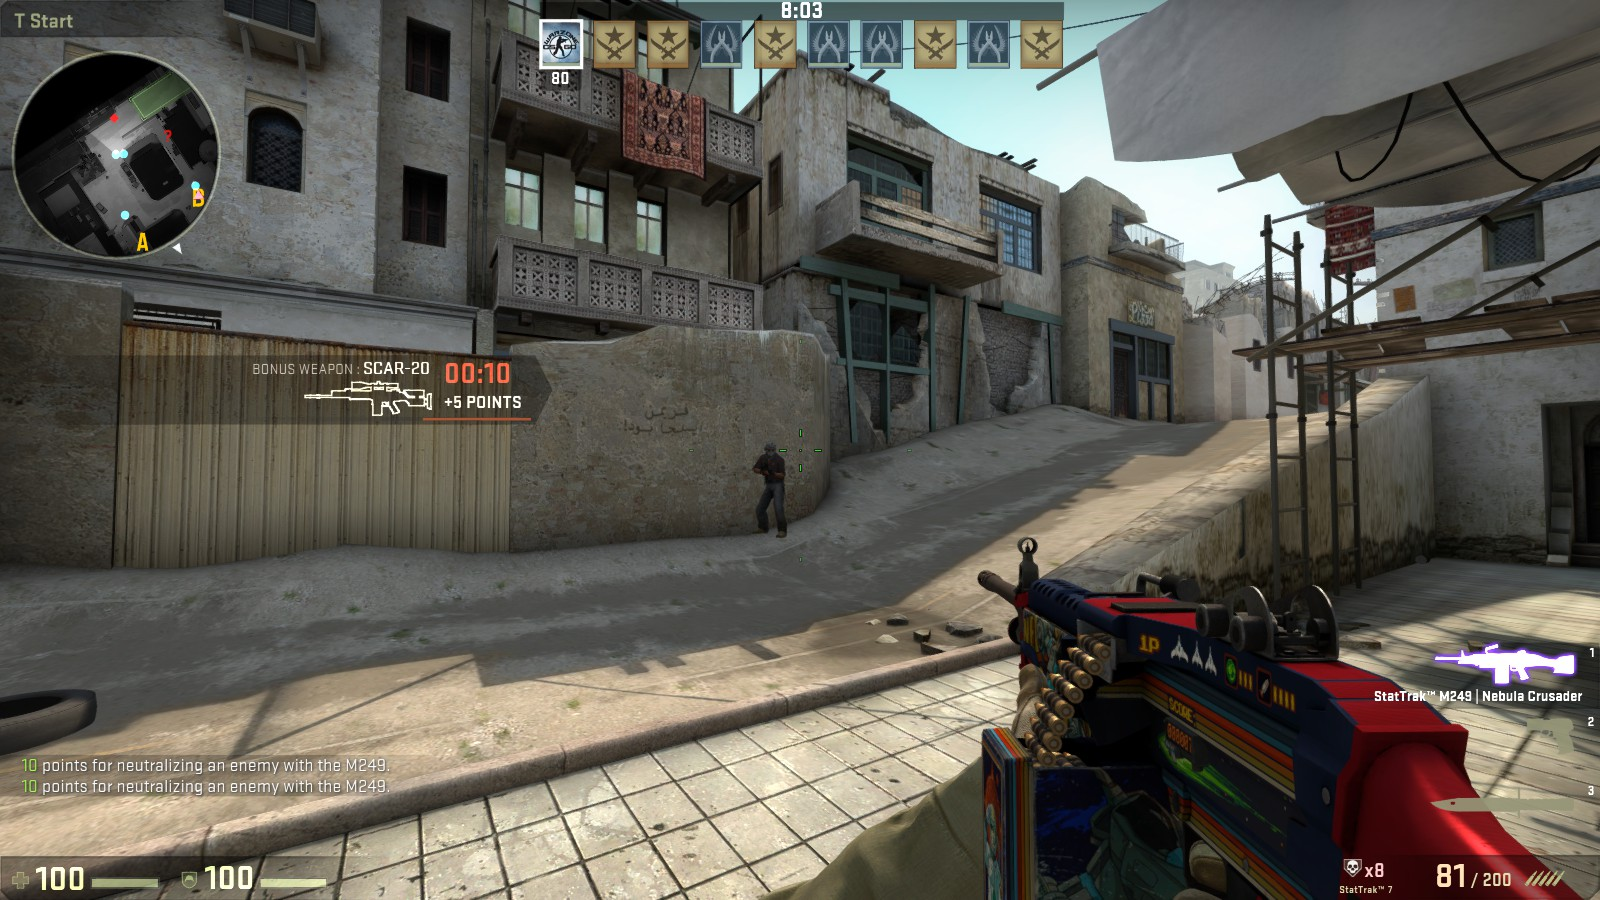t: (747, 437, 792, 538)
th: (762, 440, 777, 460)
